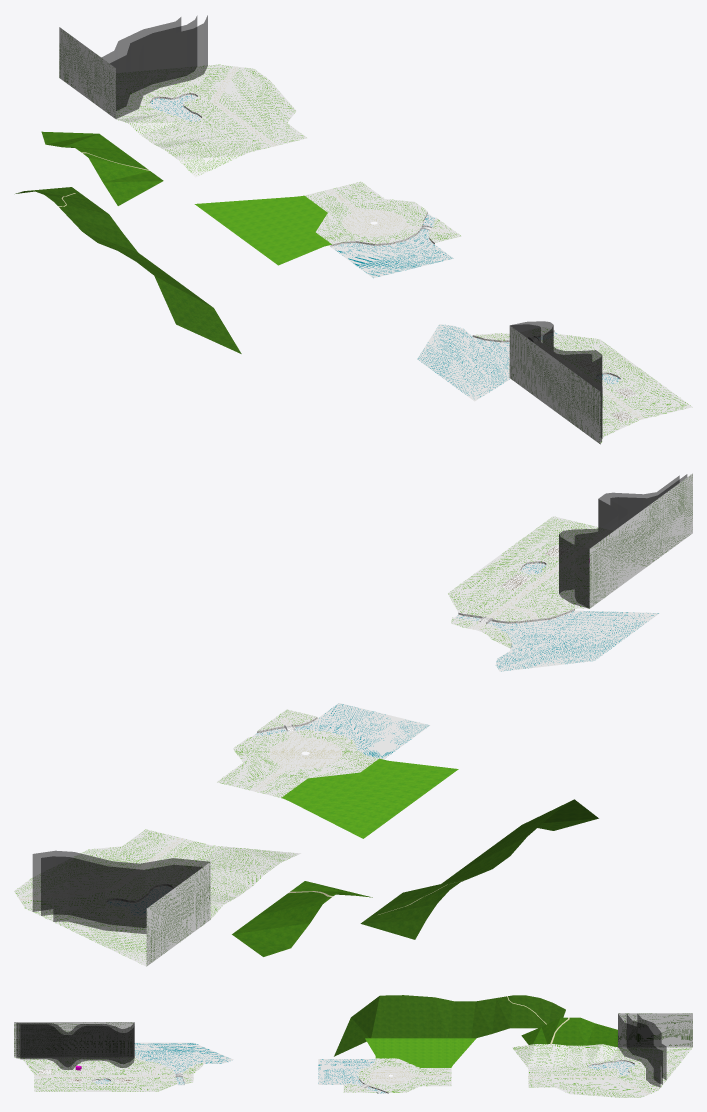
Rendered from wartwood_mesh.obj.
3 renders of one model, top to bottom at view 1: azimuth 30°, elevation 25°; view 2: azimuth 150°, elevation 25°; view 3: azimuth 270°, elevation 25°, orthographic. The views are drawn at different scales.
Visible parts, largest first — view 1: SketchUp.028_ID248.002, SketchUp.006_ID68.002, SketchUp.035_ID303.002, SketchUp.023_ID205.002, SketchUp.032_ID276.002, SketchUp.017_ID159.002, SketchUp.012_ID121.002, SketchUp.031_ID270.002, SketchUp.040_ID341.002, SketchUp.005_ID60.002, SketchUp.029_ID256.002, SketchUp.022_ID197.002 (+9 smaller); view 2: SketchUp.028_ID248.002, SketchUp.006_ID68.002, SketchUp.031_ID270.002, SketchUp.030_ID264.002, SketchUp.023_ID205.002, SketchUp.017_ID159.002, SketchUp.012_ID121.002, SketchUp.035_ID303.002, SketchUp.040_ID341.002, SketchUp.022_ID197.002, SketchUp.029_ID256.002, SketchUp.005_ID60.002 (+7 smaller); view 3: SketchUp.035_ID303.002, SketchUp.028_ID248.002, SketchUp.022_ID197.002, SketchUp.023_ID205.002, SketchUp.006_ID68.002, SketchUp.029_ID256.002, SketchUp.021_ID189.002, SketchUp.017_ID159.002, SketchUp.012_ID121.002, SketchUp.040_ID341.002, SketchUp.032_ID276.002, SketchUp.033_ID282.002 (+10 smaller).
Boxes of the visible parts, bbox=[...] form: SketchUp.028_ID248.002: bbox=[116, 64, 271, 177]; SketchUp.006_ID68.002: bbox=[194, 190, 419, 265]; SketchUp.035_ID303.002: bbox=[15, 187, 241, 353]; SketchUp.023_ID205.002: bbox=[509, 325, 600, 444]; SketchUp.032_ID276.002: bbox=[116, 15, 207, 118]; SketchUp.017_ID159.002: bbox=[417, 324, 558, 401]; SketchUp.012_ID121.002: bbox=[541, 334, 692, 418]; SketchUp.031_ID270.002: bbox=[110, 16, 197, 110]; SketchUp.040_ID341.002: bbox=[218, 67, 307, 145]; SketchUp.005_ID60.002: bbox=[330, 213, 453, 278]; SketchUp.029_ID256.002: bbox=[59, 27, 115, 118]; SketchUp.022_ID197.002: bbox=[510, 321, 602, 441]; SketchUp.028_ID248.002: bbox=[20, 839, 300, 966]; SketchUp.006_ID68.002: bbox=[257, 730, 458, 838]; SketchUp.031_ID270.002: bbox=[41, 856, 202, 927]; SketchUp.030_ID264.002: bbox=[53, 863, 193, 933]; SketchUp.023_ID205.002: bbox=[589, 473, 692, 608]; SketchUp.017_ID159.002: bbox=[455, 610, 659, 671]; SketchUp.012_ID121.002: bbox=[448, 516, 605, 616]; SketchUp.035_ID303.002: bbox=[360, 799, 598, 939]; SketchUp.040_ID341.002: bbox=[14, 829, 178, 897]; SketchUp.022_ID197.002: bbox=[559, 474, 687, 608]; SketchUp.029_ID256.002: bbox=[146, 862, 210, 966]; SketchUp.005_ID60.002: bbox=[252, 703, 430, 759]; SketchUp.035_ID303.002: bbox=[334, 995, 565, 1056]; SketchUp.028_ID248.002: bbox=[512, 1044, 692, 1093]; SketchUp.022_ID197.002: bbox=[16, 1022, 134, 1069]; SketchUp.023_ID205.002: bbox=[14, 1022, 134, 1057]; SketchUp.006_ID68.002: bbox=[358, 1038, 476, 1084]; SketchUp.029_ID256.002: bbox=[618, 1013, 692, 1047]; SketchUp.021_ID189.002: bbox=[15, 1057, 160, 1074]; SketchUp.017_ID159.002: bbox=[134, 1042, 233, 1085]; SketchUp.012_ID121.002: bbox=[34, 1077, 177, 1091]; SketchUp.040_ID341.002: bbox=[528, 1078, 647, 1097]; SketchUp.032_ID276.002: bbox=[618, 1014, 660, 1087]; SketchUp.033_ID282.002: bbox=[552, 1017, 617, 1047].
Size of the model in its own units: 144 by 51.03 by 430.
10 materials, 6 textured.
